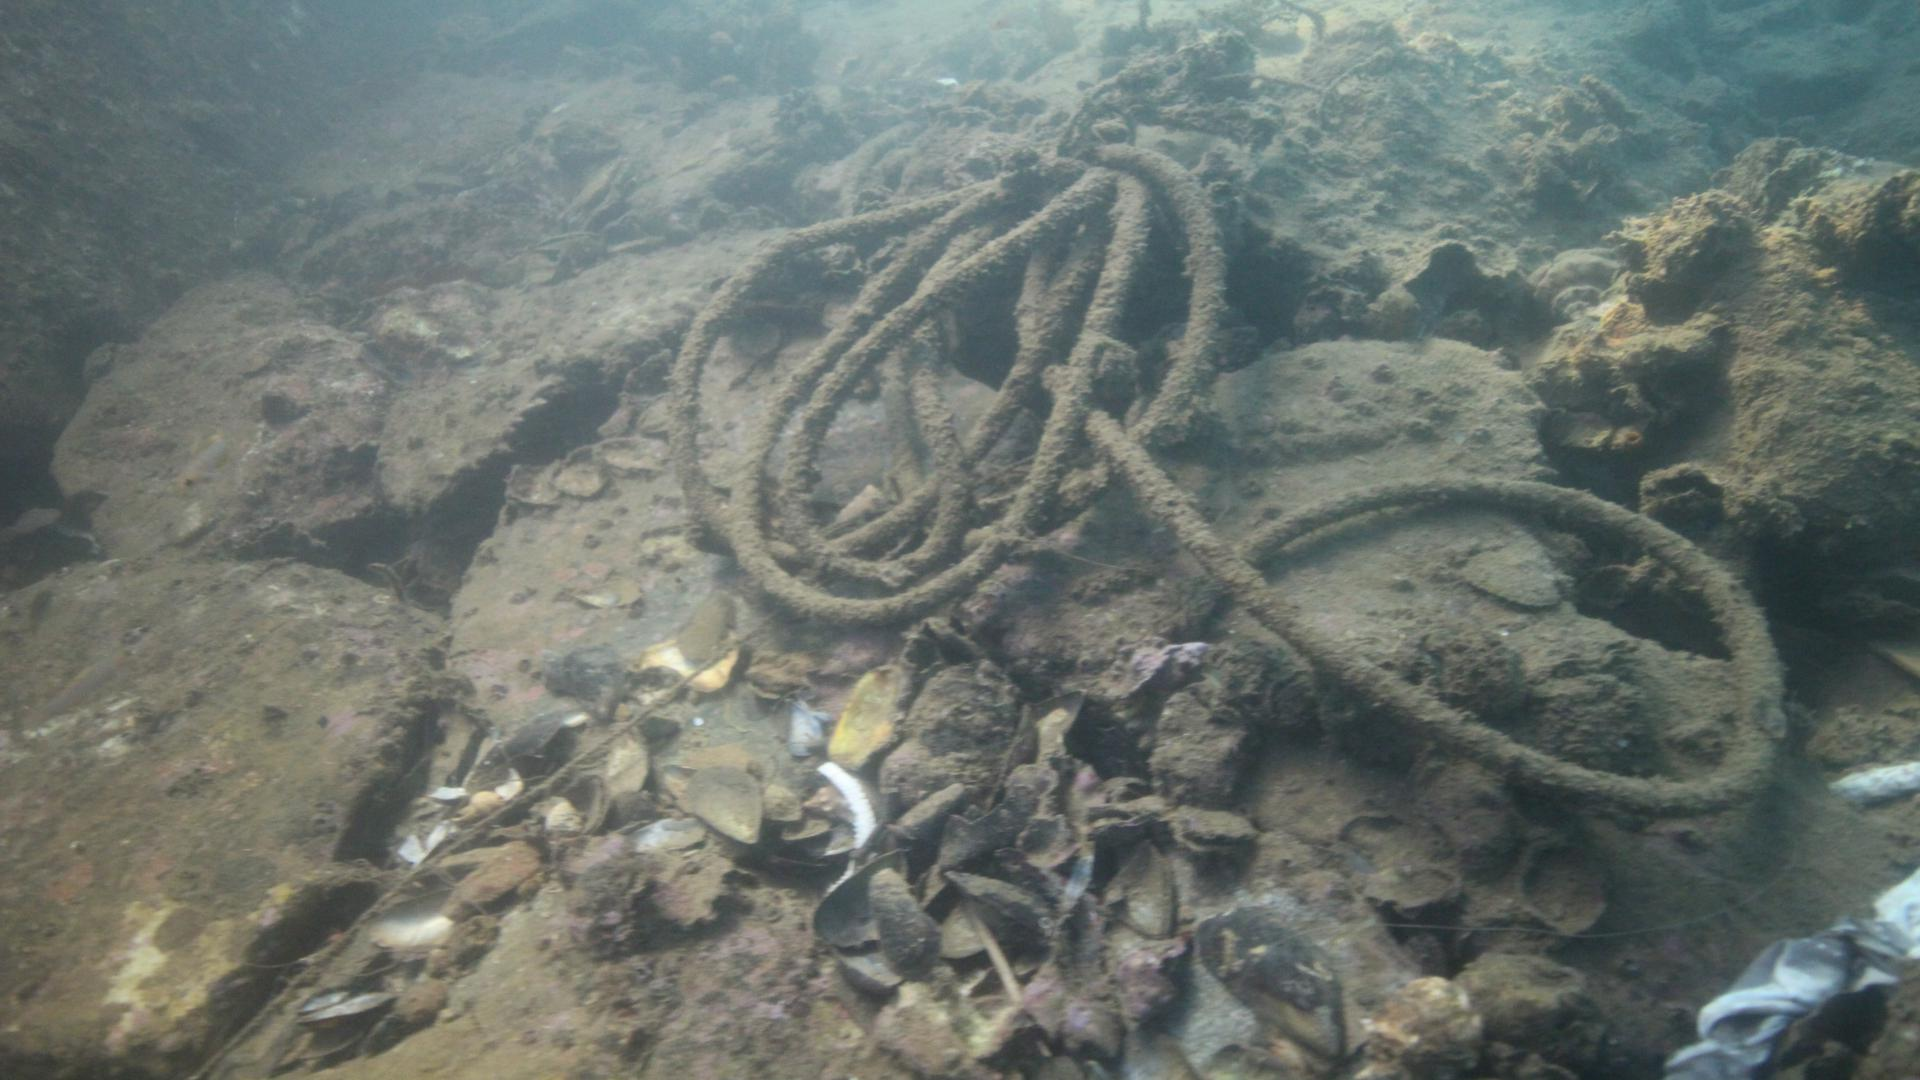bundle of ropes: (666, 0, 1791, 818)
